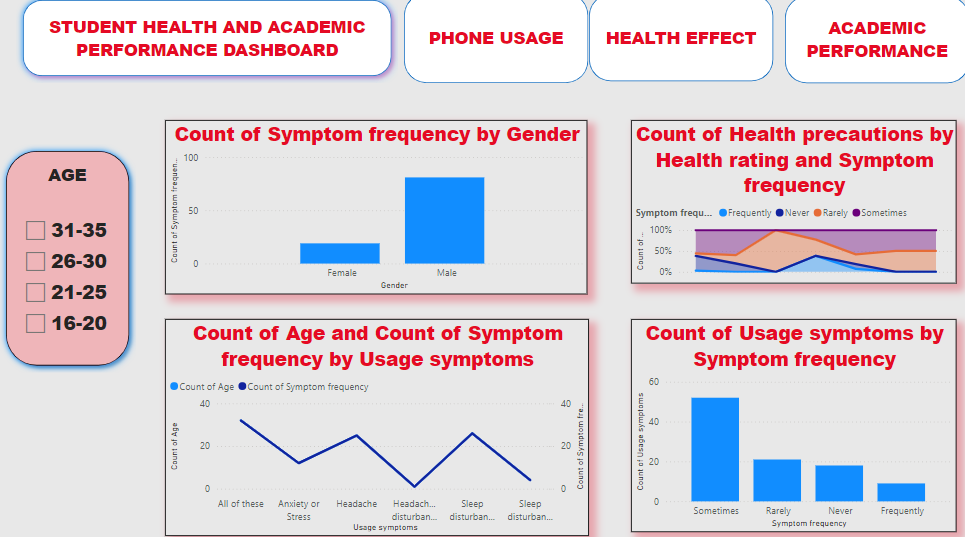

This screenshot's page, from the dashboard's own definition file:
{"tool":"powerbi","page":{"name":"HEALTH EFFECT","canvas":[1280,720],"ordinal":2},"visuals":[{"type":"shape","box":[0,194.9,177,295],"z":0,"group":"g1"},{"type":"lineChart","fields":{"Category":["Impact_of_Mobile_Phone_on_Student.Usage symptoms"],"Y":["CountNonNull(Impact_of_Mobile_Phone_on_Student.Age)"],"Y2":["CountNonNull(Impact_of_Mobile_Phone_on_Student.Symptom frequency)"]},"box":[214.2,420.6,547.1,280],"z":0},{"type":"slicer","fields":{"Values":["Impact_of_Mobile_Phone_on_Student.Age"]},"box":[21.5,280.7,139.4,189.5],"z":1000,"group":"g1"},{"type":"columnChart","fields":{"Category":["Impact_of_Mobile_Phone_on_Student.Symptom frequency"],"Y":["CountNonNull(Impact_of_Mobile_Phone_on_Student.Usage symptoms)"]},"box":[815.2,420.1,420.1,275.3],"z":1000},{"type":"textbox","box":[34,214.6,109.1,66.1],"z":2000,"group":"g1"},{"type":"hundredPercentStackedAreaChart","fields":{"Category":["Impact_of_Mobile_Phone_on_Student.Health rating"],"Y":["CountNonNull(Impact_of_Mobile_Phone_on_Student.Health precautions)"],"Series":["Impact_of_Mobile_Phone_on_Student.Symptom frequency"]},"box":[815.2,164.5,420.1,210.9],"z":2000},{"type":"columnChart","fields":{"Category":["Impact_of_Mobile_Phone_on_Student.Gender "],"Y":["CountNonNull(Impact_of_Mobile_Phone_on_Student.Symptom frequency)"]},"box":[214.5,164.5,545.3,225.3],"z":3000},{"type":"group","id":"g1","title":"Group 1","box":[0,194.9,177,295],"z":4000},{"type":"shape","box":[21.5,0,493.4,116.2],"z":5000},{"type":"shape","box":[522,0,237.8,116.2],"z":6000},{"type":"shape","box":[761.6,1.8,237.8,112.6],"z":7000},{"type":"shape","box":[1013.6,3.6,237.8,112.6],"z":8000}]}

Visuals, with their boxes in screenshot pixels (x1, y1, x2, y2), scaled from the page's 1280x720 canvas onto the 965x537 screenshot:
shape: 0,145,133,365
lineChart - Impact_of_Mobile_Phone_on_Student.Usage symptoms x CountNonNull(Impact_of_Mobile_Phone_on_Student.Age): 161,314,574,523
slicer - Impact_of_Mobile_Phone_on_Student.Age: 16,209,121,351
columnChart - Impact_of_Mobile_Phone_on_Student.Symptom frequency x CountNonNull(Impact_of_Mobile_Phone_on_Student.Usage symptoms): 615,313,931,519
textbox: 26,160,108,209
hundredPercentStackedAreaChart - Impact_of_Mobile_Phone_on_Student.Health rating x CountNonNull(Impact_of_Mobile_Phone_on_Student.Health precautions): 615,123,931,280
columnChart - Impact_of_Mobile_Phone_on_Student.Gender  x CountNonNull(Impact_of_Mobile_Phone_on_Student.Symptom frequency): 162,123,573,291
"Group 1" group: 0,145,133,365
shape: 16,0,388,87
shape: 394,0,573,87
shape: 574,1,753,85
shape: 764,3,943,87
